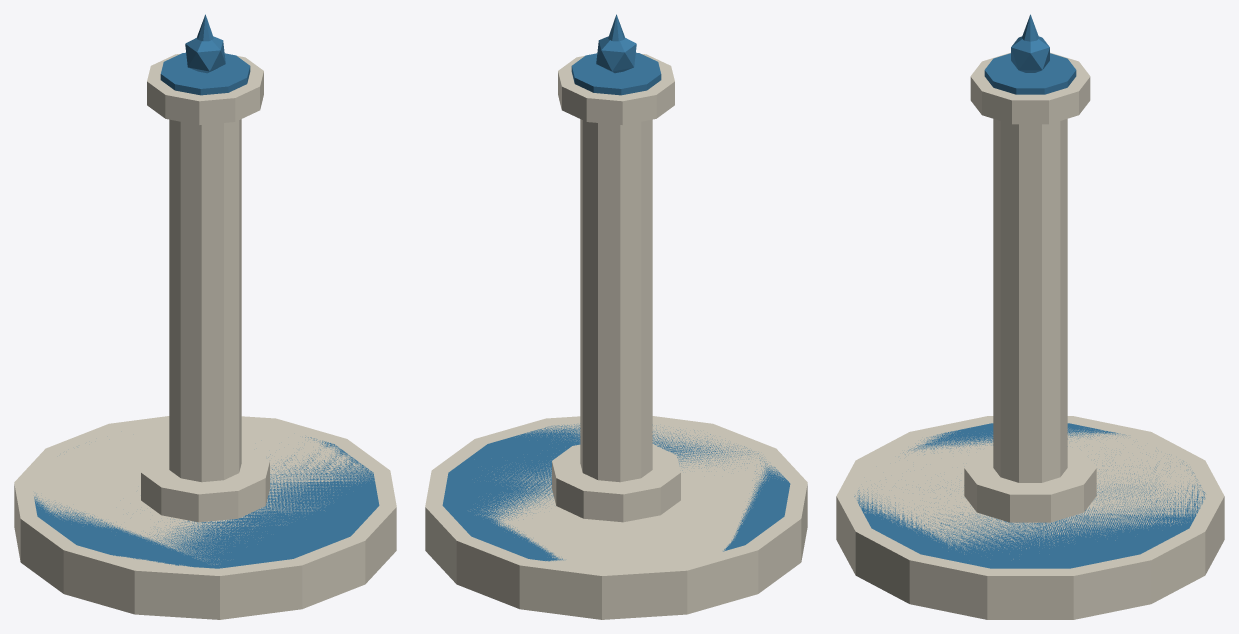
Rendered from prop.fountain-column.glb.
3 views of the same model, side by side, from view 1: azimuth 30°, elevation 25°; view 2: azimuth 150°, elevation 25°; view 3: azimuth 270°, elevation 25° (orthographic).
Parts seen in each view (by area): view 1: prop.fountain-column; view 2: prop.fountain-column; view 3: prop.fountain-column.
Part boxes in pixels (<box>): prop.fountain-column: <box>14,14,396,619</box>; prop.fountain-column: <box>425,14,807,619</box>; prop.fountain-column: <box>836,14,1224,619</box>.
Bounding box in the file's own units: 4.29 × 6.58 × 4.4.
